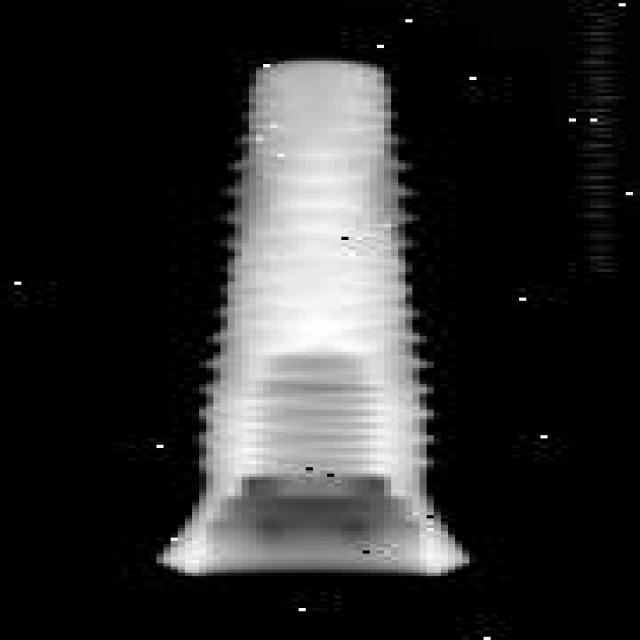Titan Implant Implant: (153, 31, 574, 630)
